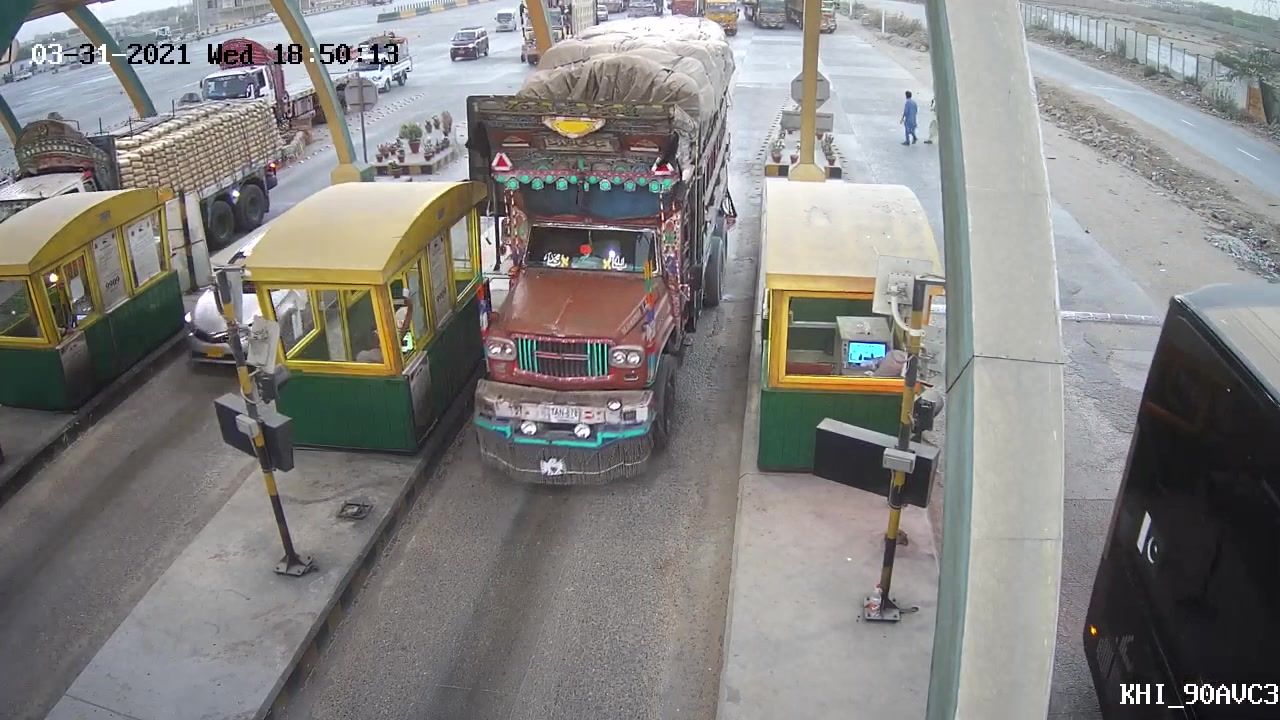F5: (450, 11, 742, 488)
